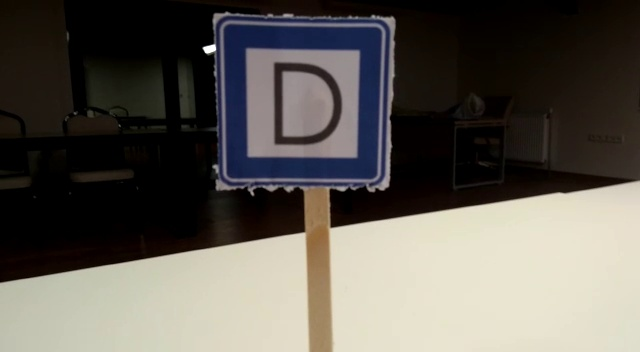durak: (217, 17, 389, 187)
